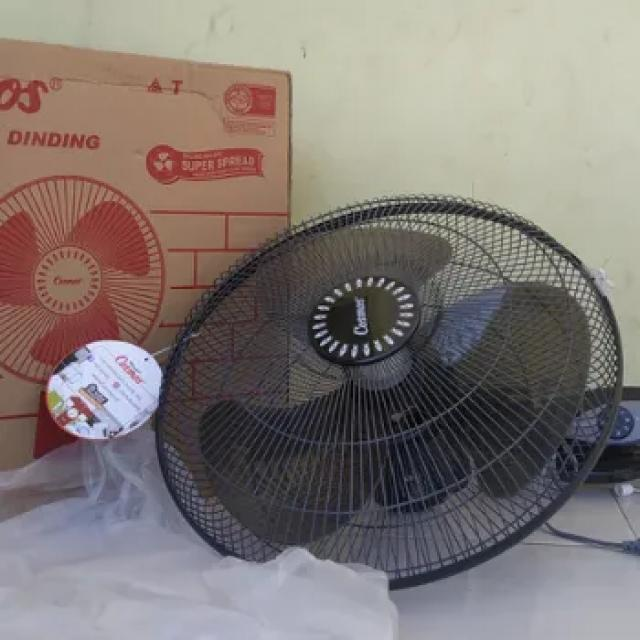fan: (139, 182, 633, 599)
